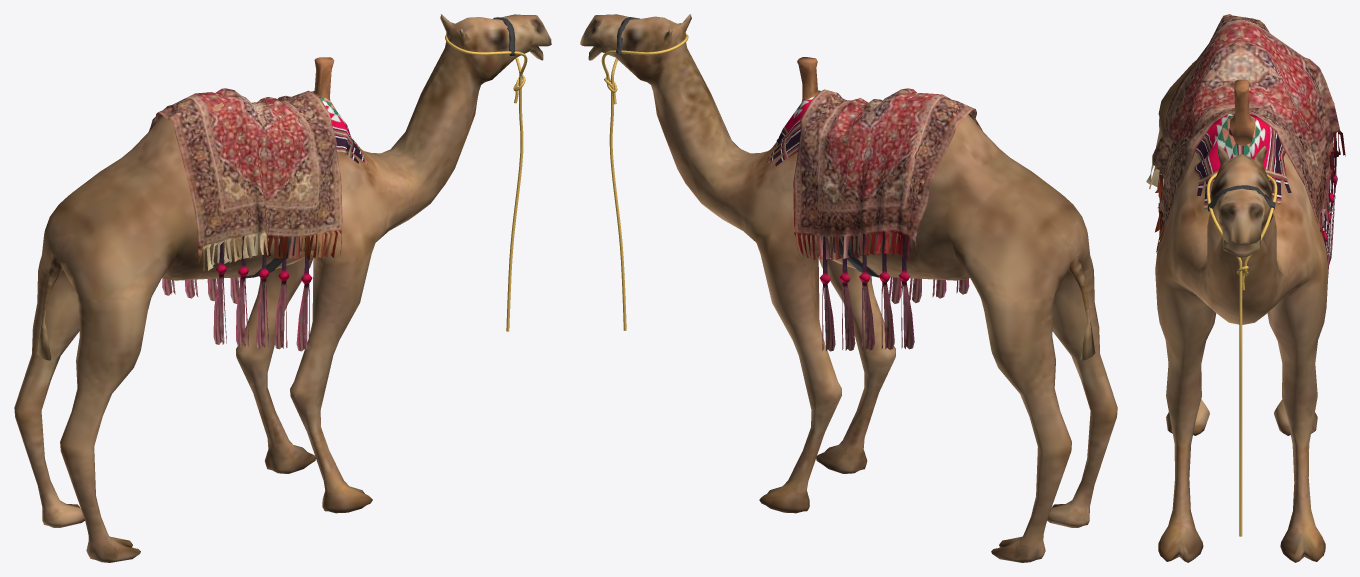
File: camel.glb
3 renders of one model, left to right at view 1: azimuth 30°, elevation 25°; view 2: azimuth 150°, elevation 25°; view 3: azimuth 270°, elevation 25°, orthographic. The views are drawn at different scales.
Parts seen in each view (by area): view 1: c; view 2: c; view 3: c.
Part boxes in pixels (bbox=[...]): c: bbox=[14, 14, 551, 562]; c: bbox=[580, 14, 1117, 562]; c: bbox=[1146, 14, 1345, 562].
Size of the model in its own units: 2.86 by 2.31 by 0.8665.
Materials: 1 (1 with a texture image).
